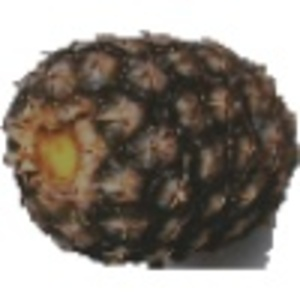abacaxi: (3, 28, 293, 264)
